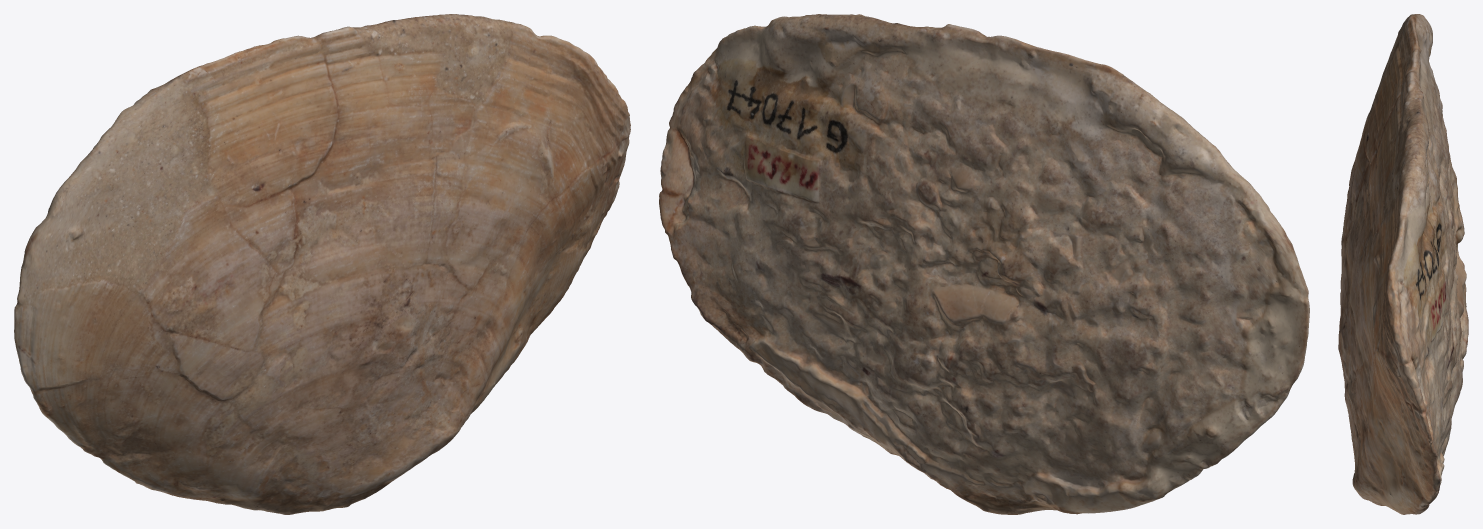
The model's file is EWS0012651.glb.
3 renders of one model, left to right at view 1: azimuth 30°, elevation 25°; view 2: azimuth 150°, elevation 25°; view 3: azimuth 270°, elevation 25°, orthographic. The views are drawn at different scales.
Parts seen in each view (by area): view 1: input; view 2: input; view 3: input.
Boxes of the visible parts, <box> form: input: <box>14,14,630,514</box>; input: <box>659,14,1309,514</box>; input: <box>1338,14,1468,514</box>.
Bounding box in the file's own units: 0.081 × 0.0588 × 0.016.
Materials: 1 (1 with a texture image).
